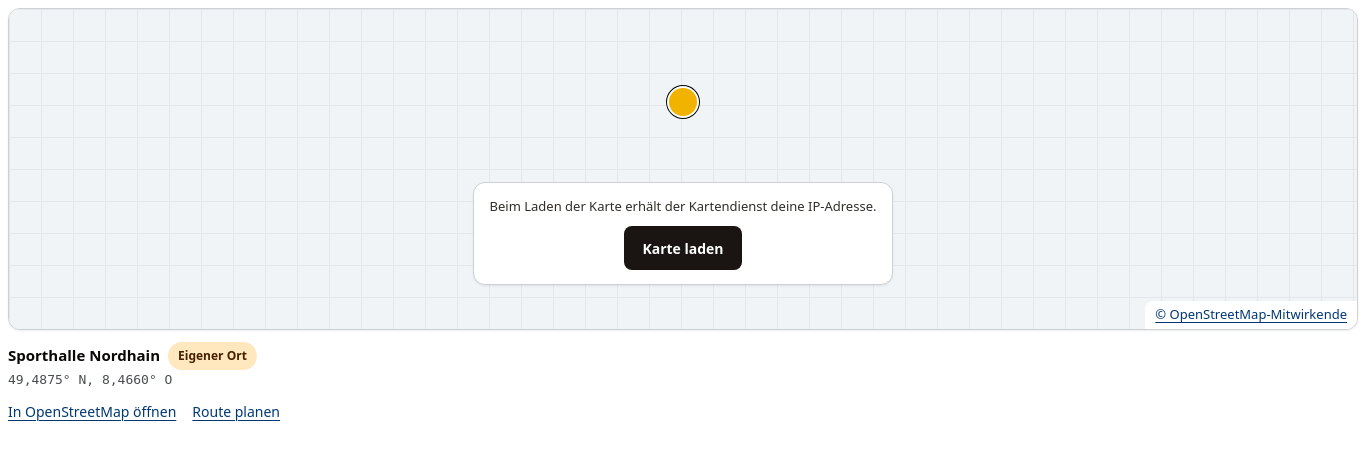
Karte · Svelte › Karte laden › Klick lädt Leaflet, baut die Karte und zeigt Zoom-Schaltflächen, der Platzhalter verschwindet
The width and height of the screenshot is (1366, 450).
Step 1. Click the button with class "hoops-map-load" → [683, 248], box x1=624 y1=226 x2=742 y2=270
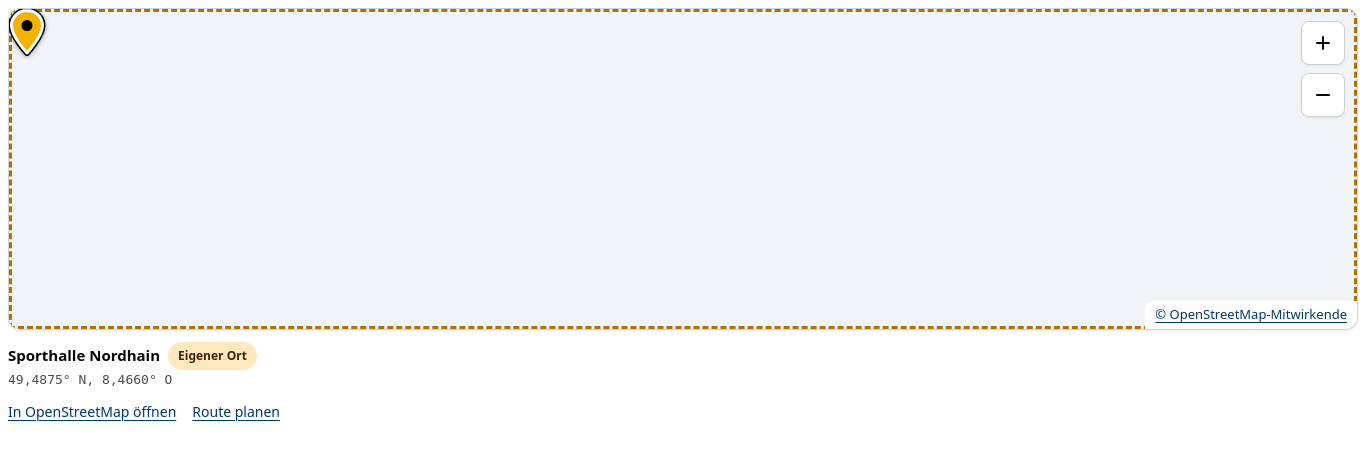
Expected: the element with class "hoops-map-ph" is gone
